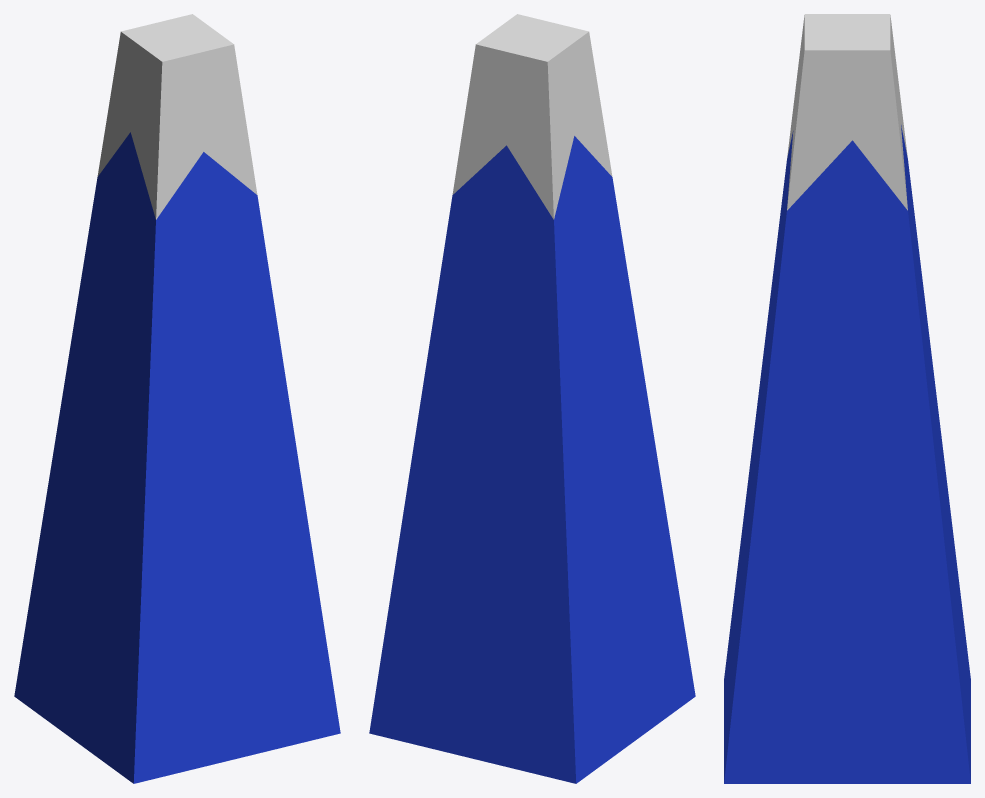
The model's file is dag.fbx.
The picture shows the model from 3 angles, left to right: view 1: azimuth 30°, elevation 25°; view 2: azimuth 150°, elevation 25°; view 3: azimuth 270°, elevation 25°; orthographic projection. The views are drawn at different scales.
Visible parts, largest first — view 1: Cube; view 2: Cube; view 3: Cube.
Part boxes in pixels (x1,y1,x2,y2): Cube: (14,14,340,783); Cube: (369,14,695,783); Cube: (724,14,970,783).
Bounding box in the file's own units: 576 × 1800 × 576.
